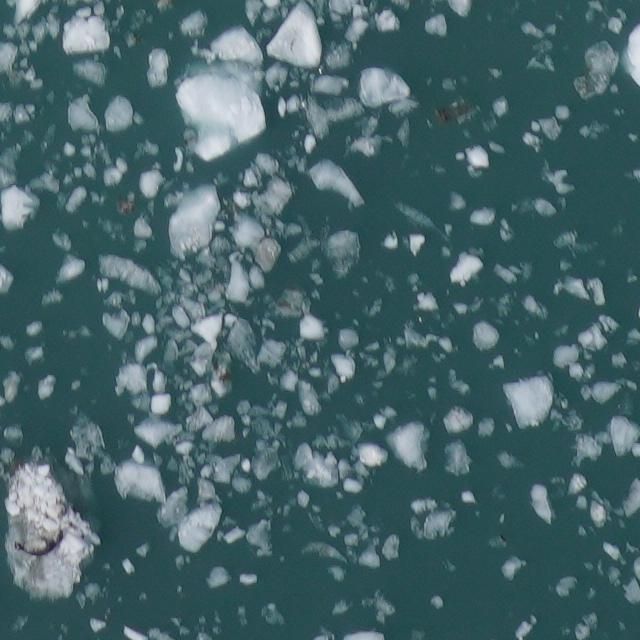seal: (13, 529, 60, 555)
